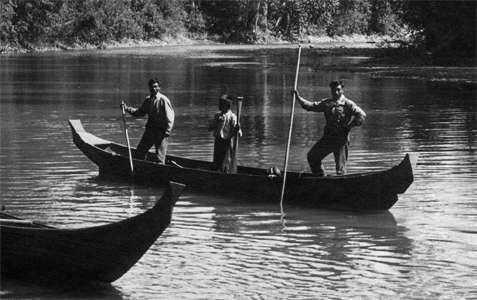kayak: (71, 121, 413, 213), (0, 180, 186, 286)
